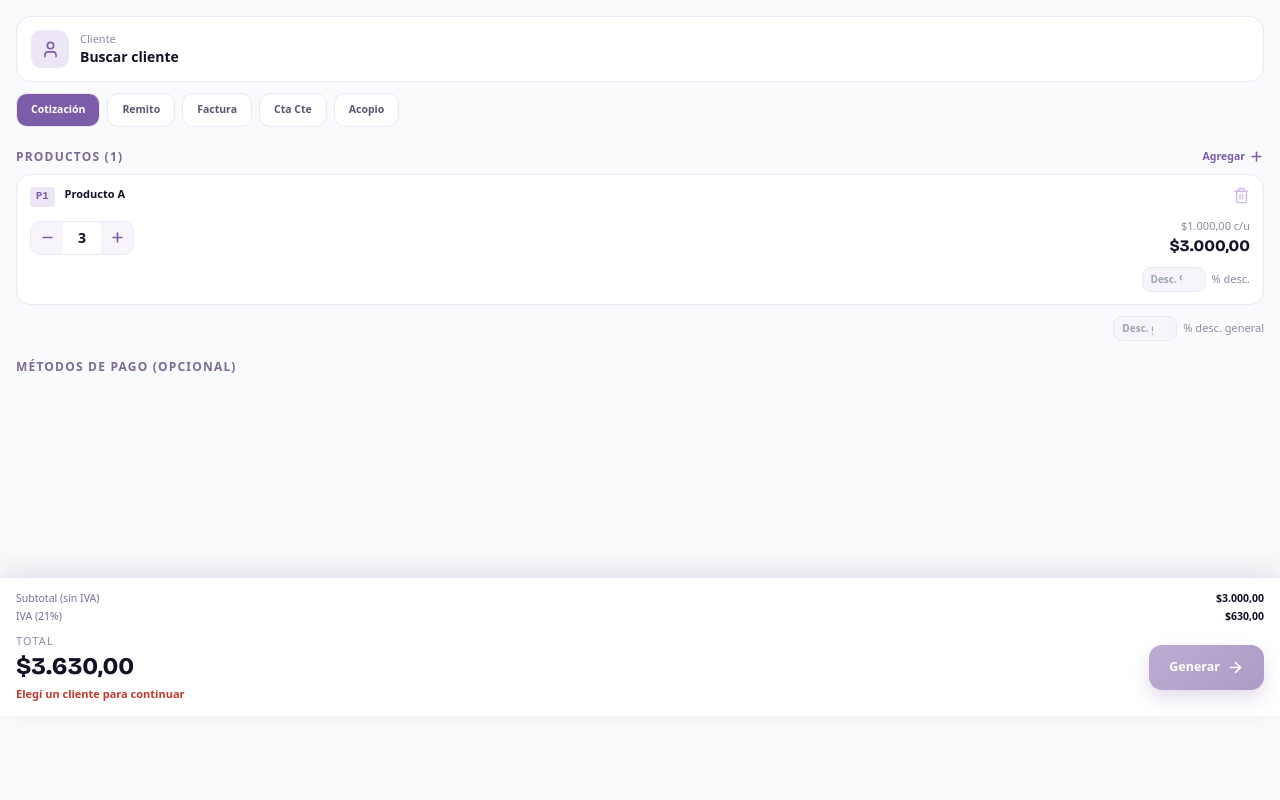
MobileSales — cart item lifecycle (UI) › removes the line entirely via the trash icon, regardless of qty
Click the button named "eliminar producto a del carrito": click(1242, 195) [1233, 187, 1250, 204]
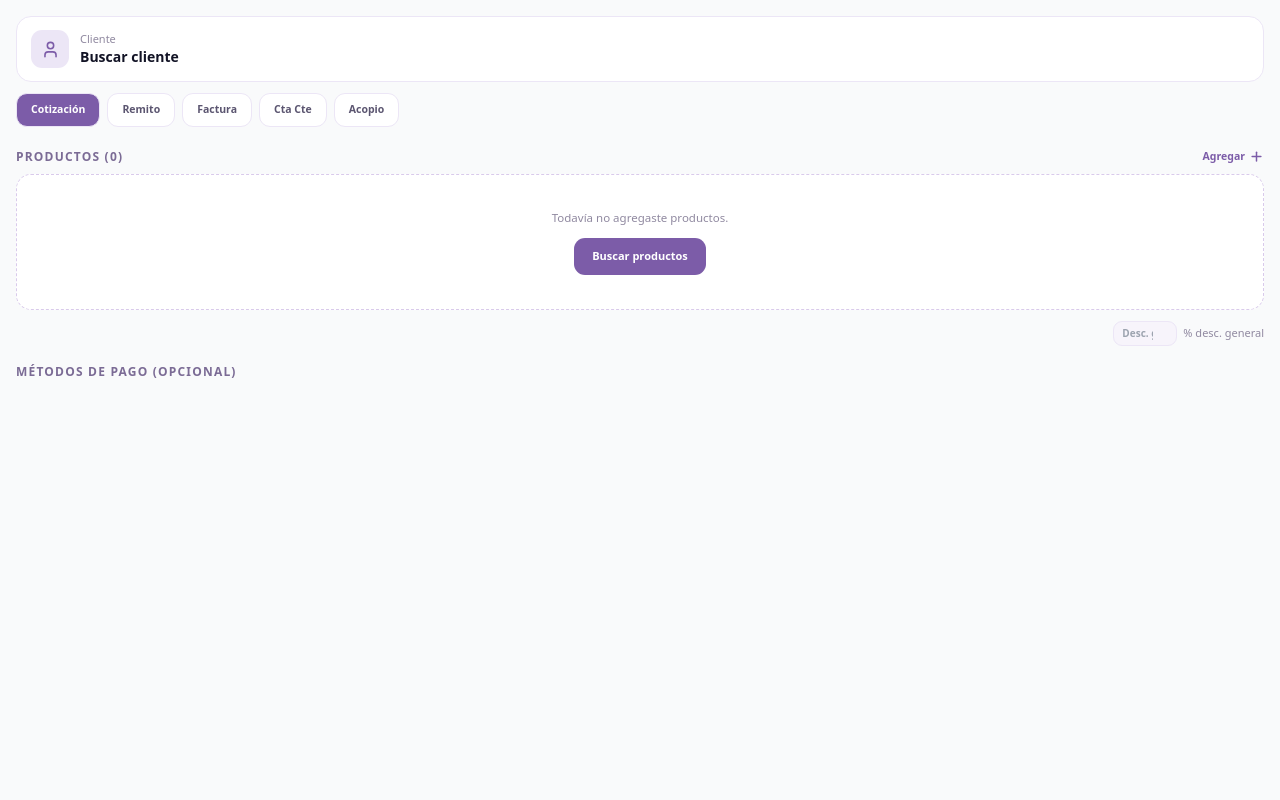
Check: the text "Producto A" is gone
